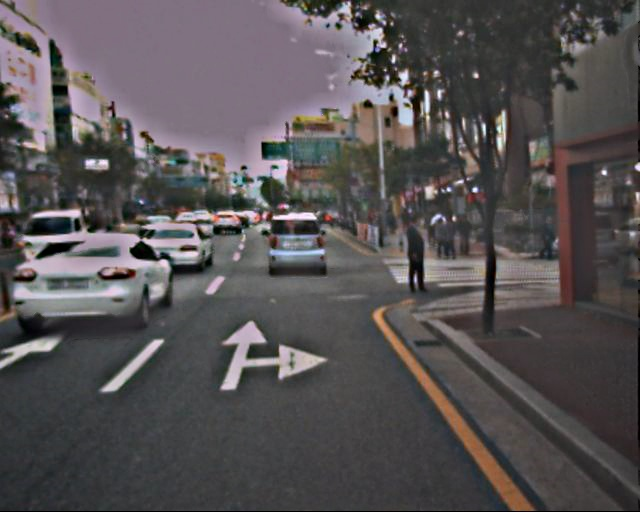person: (399, 215, 432, 295), (432, 209, 469, 256), (536, 213, 557, 263)
